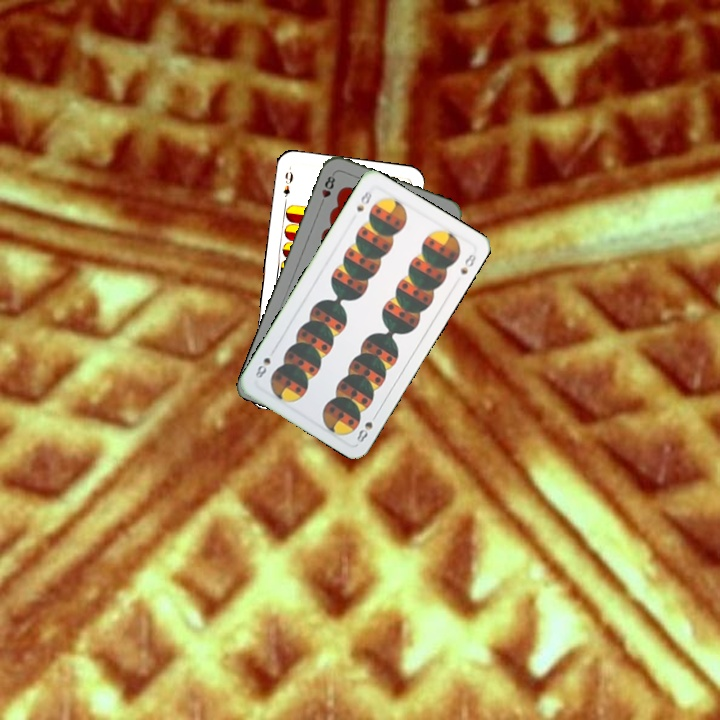E9: (280, 168, 296, 199)
H8: (316, 170, 338, 209)
S8: (352, 408, 380, 445), (352, 185, 374, 214)
